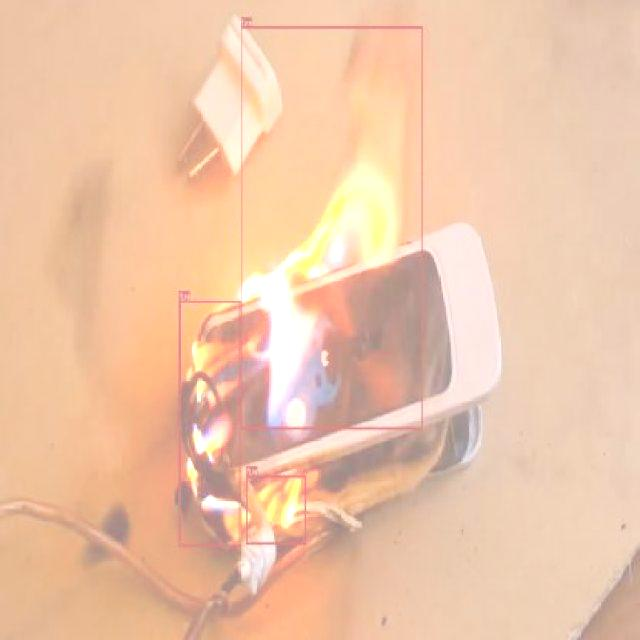fire: (241, 25, 422, 430), (178, 299, 240, 547), (246, 474, 306, 544)
